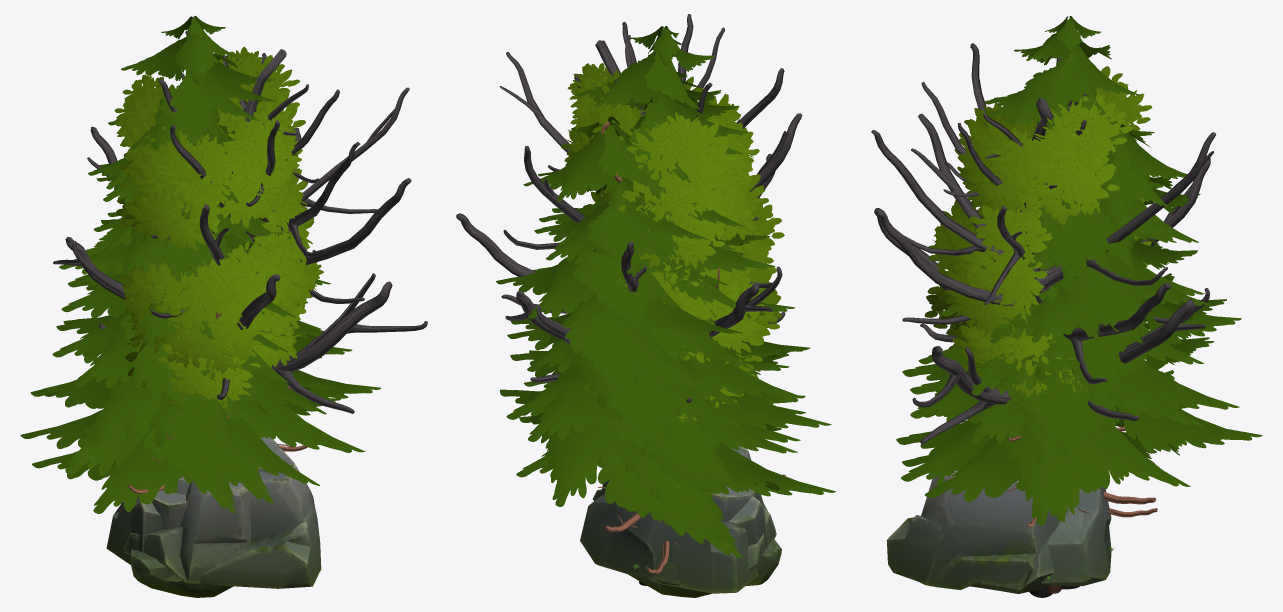
Rendered from nature.glb.
3 views of the same model, side by side, from view 1: azimuth 30°, elevation 25°; view 2: azimuth 150°, elevation 25°; view 3: azimuth 270°, elevation 25° (orthographic). The views are drawn at different scales.
Visible parts, largest first — view 1: Pine_4, CommonTree_3, DeadTree_1, Pine_5, Pine_2, Rock_Medium_3, CommonTree_4, CommonTree_5, Rock_Medium_1, Rock_Medium_2; view 2: Pine_5, Pine_4, CommonTree_3, DeadTree_1, Rock_Medium_2, CommonTree_4, Pine_2, CommonTree_5, Rock_Medium_3, Rock_Medium_1; view 3: Pine_5, Pine_4, DeadTree_1, CommonTree_4, Rock_Medium_3, CommonTree_3, Pine_2, Rock_Medium_2, CommonTree_5, Rock_Medium_1.
Boxes of the visible parts, bbox=[...] form: Pine_4: bbox=[30, 16, 330, 493]; CommonTree_3: bbox=[114, 53, 323, 417]; DeadTree_1: bbox=[53, 30, 427, 413]; Pine_5: bbox=[20, 109, 381, 503]; Pine_2: bbox=[32, 225, 340, 513]; Rock_Medium_3: bbox=[131, 437, 321, 597]; CommonTree_4: bbox=[121, 46, 307, 248]; CommonTree_5: bbox=[117, 223, 306, 416]; Rock_Medium_1: bbox=[123, 480, 251, 583]; Rock_Medium_2: bbox=[106, 489, 187, 564]; Pine_5: bbox=[496, 116, 815, 542]; Pine_4: bbox=[506, 26, 831, 574]; CommonTree_3: bbox=[583, 70, 784, 389]; DeadTree_1: bbox=[456, 14, 802, 585]; Rock_Medium_2: bbox=[580, 486, 758, 593]; CommonTree_4: bbox=[561, 63, 759, 288]; Pine_2: bbox=[516, 245, 835, 557]; CommonTree_5: bbox=[619, 245, 779, 422]; Rock_Medium_3: bbox=[592, 479, 781, 586]; Rock_Medium_1: bbox=[603, 445, 776, 597]; Pine_5: bbox=[902, 120, 1262, 525]; Pine_4: bbox=[902, 16, 1213, 527]; DeadTree_1: bbox=[871, 43, 1216, 597]; CommonTree_4: bbox=[954, 66, 1152, 593]; Rock_Medium_3: bbox=[886, 470, 1059, 589]; CommonTree_3: bbox=[924, 90, 1150, 593]; Pine_2: bbox=[896, 198, 1190, 522]; Rock_Medium_2: bbox=[1041, 487, 1111, 586]; CommonTree_5: bbox=[933, 235, 1151, 587]; Rock_Medium_1: bbox=[970, 505, 1110, 593].
Size of the model in its own units: 6.54 by 10.34 by 6.62.
Materials: 11 (11 with a texture image).
